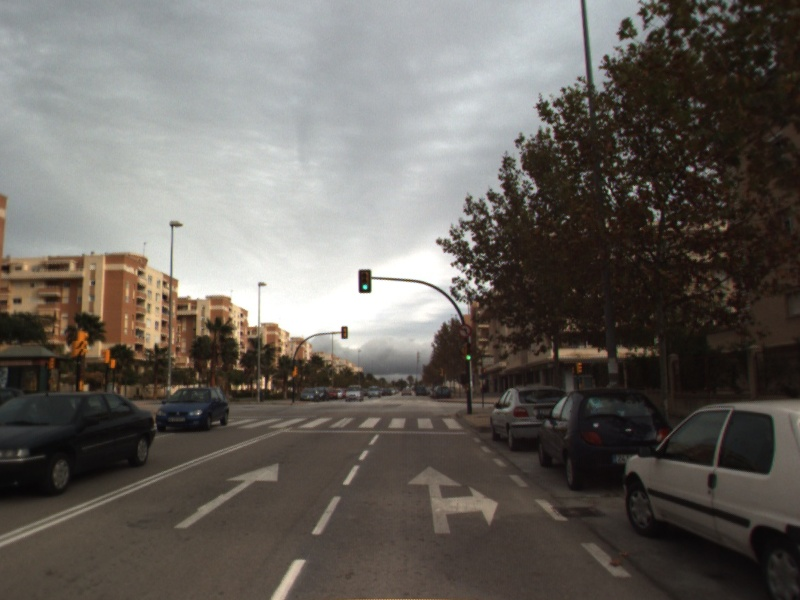STRAIGHT: (171, 461, 280, 530)
STRAIGHT_RIGHT: (405, 463, 500, 536)
